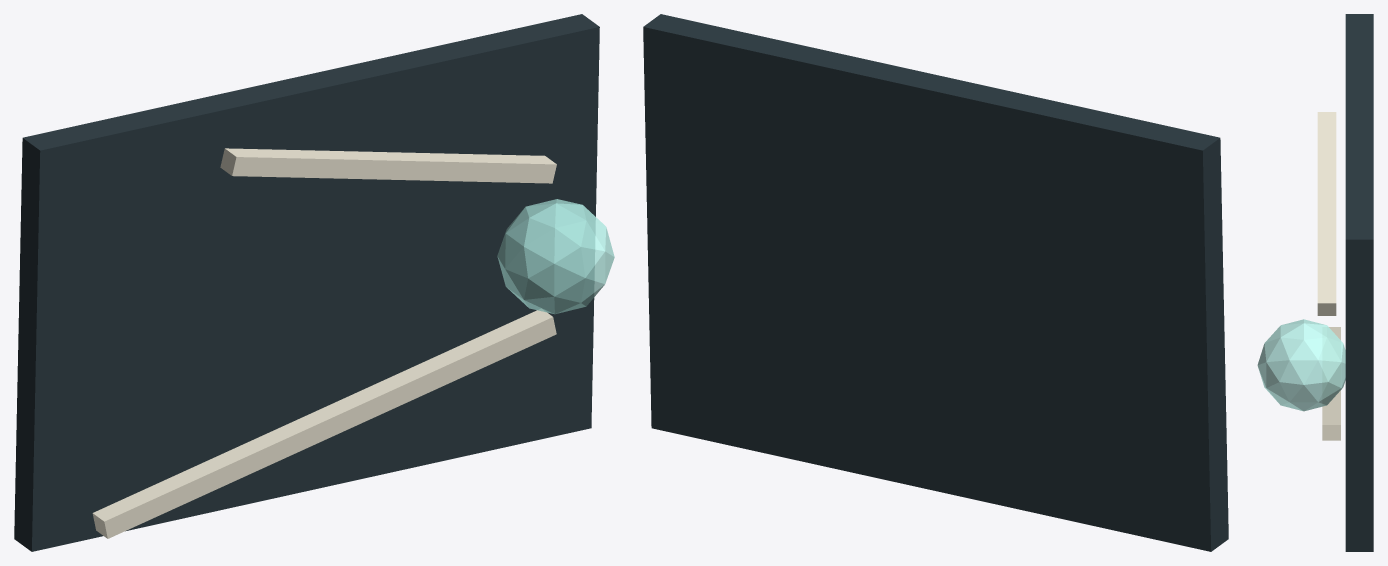
Rendered from 02_world_prop_polish.glb.
3 views of the same model, side by side, from view 1: azimuth 30°, elevation 25°; view 2: azimuth 150°, elevation 25°; view 3: azimuth 270°, elevation 25° (orthographic). The views are drawn at different scales.
Visible parts, largest first — view 1: object_overlay_plate, edge_wear_a, glow_socket, edge_wear_b; view 2: object_overlay_plate; view 3: object_overlay_plate, glow_socket, edge_wear_b, edge_wear_a.
Boxes of the visible parts, x1,y1,x2,y2 form: object_overlay_plate: (14, 14, 599, 551); edge_wear_a: (92, 309, 556, 538); glow_socket: (497, 199, 614, 314); edge_wear_b: (220, 148, 556, 183); object_overlay_plate: (643, 14, 1228, 551); object_overlay_plate: (1345, 14, 1373, 551); glow_socket: (1257, 319, 1345, 411); edge_wear_b: (1317, 112, 1336, 315); edge_wear_a: (1322, 327, 1340, 440).
Size of the model in its own units: 1.12 by 0.7739 by 0.25.
